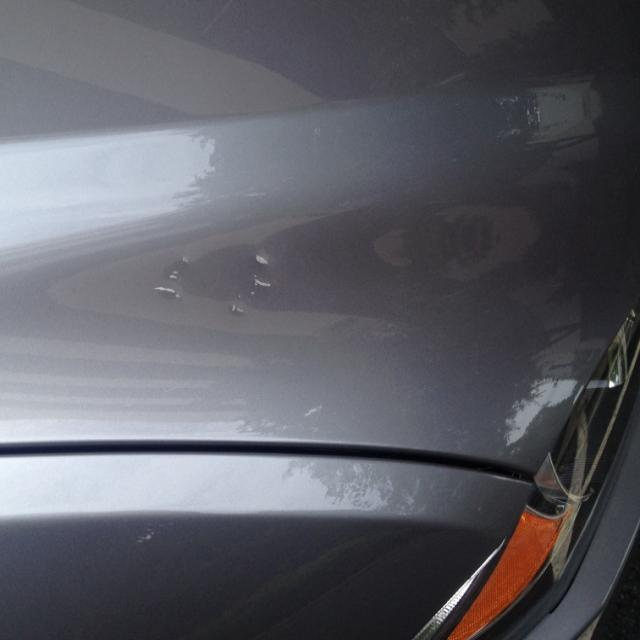dents: (227, 225, 285, 352), (153, 246, 197, 318)
